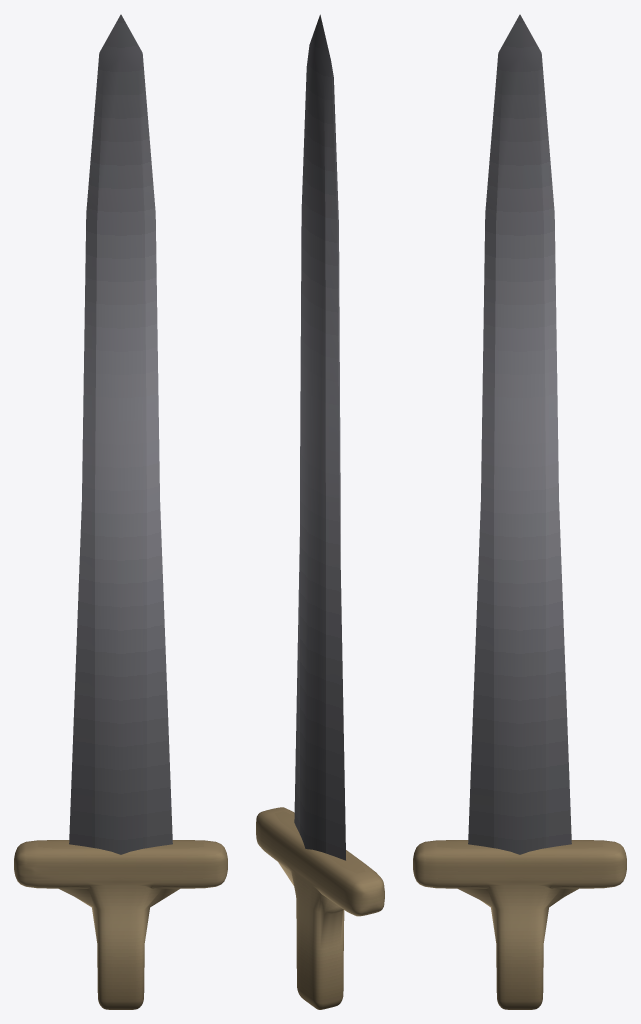
Rendered from Espada.fbx.
3 views of the same model, side by side, from view 1: azimuth 90°, elevation 25°; view 2: azimuth 210°, elevation 25°; view 3: azimuth 270°, elevation 25° (orthographic).
Visible parts, largest first — view 1: pCube3; view 2: pCube3; view 3: pCube3.
Boxes of the visible parts, left/top/right/bottom form: pCube3: left=14, top=14, right=227, bottom=1009; pCube3: left=256, top=14, right=384, bottom=1009; pCube3: left=413, top=14, right=626, bottom=1009.
Size of the model in its own units: 0.15 by 3.96 by 0.7733.
